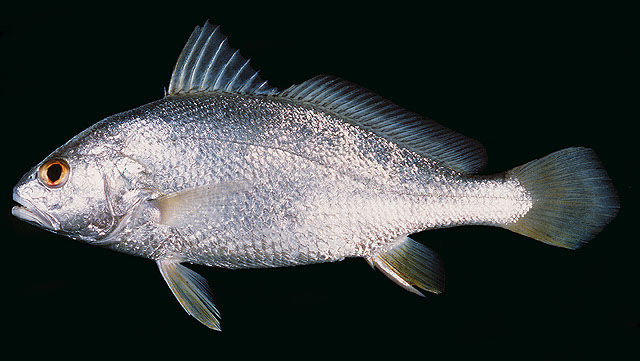fish: (12, 20, 621, 331)
